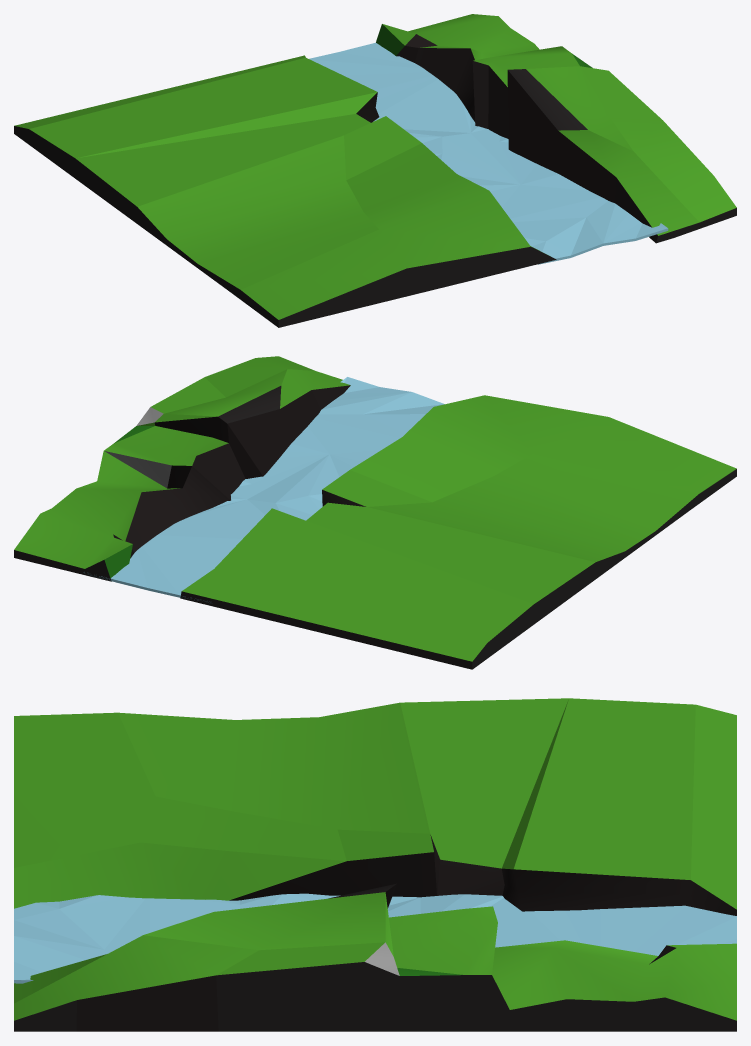
File: Terrain.FBX
3 renders of one model, top to bottom at view 1: azimuth 30°, elevation 25°; view 2: azimuth 150°, elevation 25°; view 3: azimuth 270°, elevation 25°, orthographic. The views are drawn at different scales.
Visible parts, largest first — view 1: TopRiverBank, BottomRiverBank, River; view 2: TopRiverBank, BottomRiverBank, River; view 3: TopRiverBank, BottomRiverBank, River.
Part boxes in pixels (x1,y1,x2,y2): TopRiverBank: [14, 55, 556, 327]; BottomRiverBank: [376, 14, 736, 243]; River: [309, 42, 668, 264]; TopRiverBank: [180, 395, 736, 669]; BottomRiverBank: [14, 356, 350, 581]; River: [83, 377, 444, 602]; TopRiverBank: [14, 698, 736, 915]; BottomRiverBank: [14, 883, 736, 1031]; River: [14, 893, 736, 983].
Bounding box in the file's own units: 602 × 91.88 × 600.
